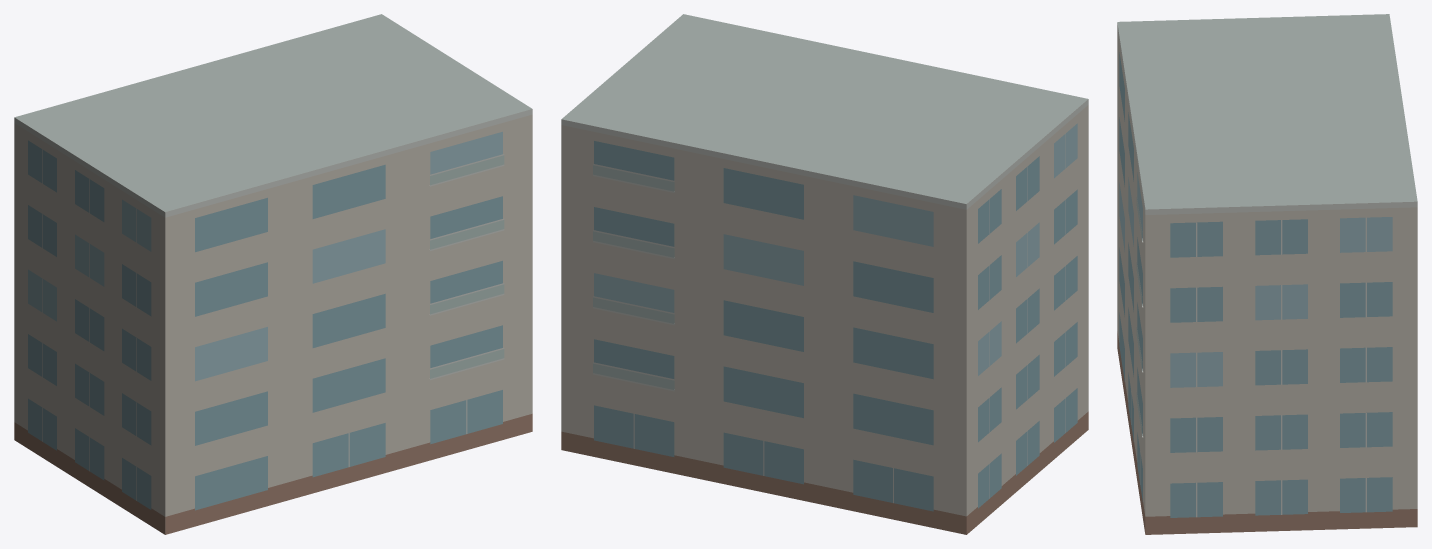
File: survey-upis-32756448.glb
3 renders of one model, left to right at view 1: azimuth 30°, elevation 25°; view 2: azimuth 150°, elevation 25°; view 3: azimuth 270°, elevation 25°, orthographic. The views are drawn at different scales.
Parts seen in each view (by area): view 1: survey-upis-32756448.tmp; view 2: survey-upis-32756448.tmp; view 3: survey-upis-32756448.tmp.
Part boxes in pixels (x1,y1,x2,y2): survey-upis-32756448.tmp: [14, 14, 532, 534]; survey-upis-32756448.tmp: [561, 14, 1088, 534]; survey-upis-32756448.tmp: [1117, 14, 1417, 534].
Size of the model in its own units: 18.31 by 14.2 by 11.89.
